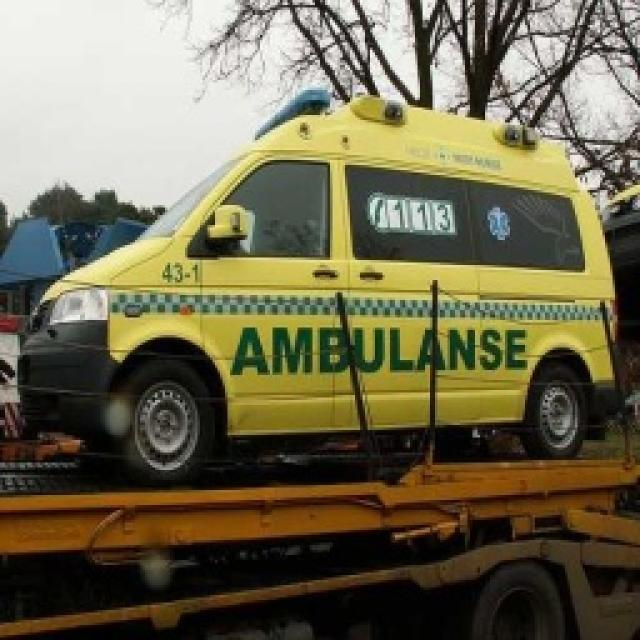ambulance: (0, 95, 615, 495)
